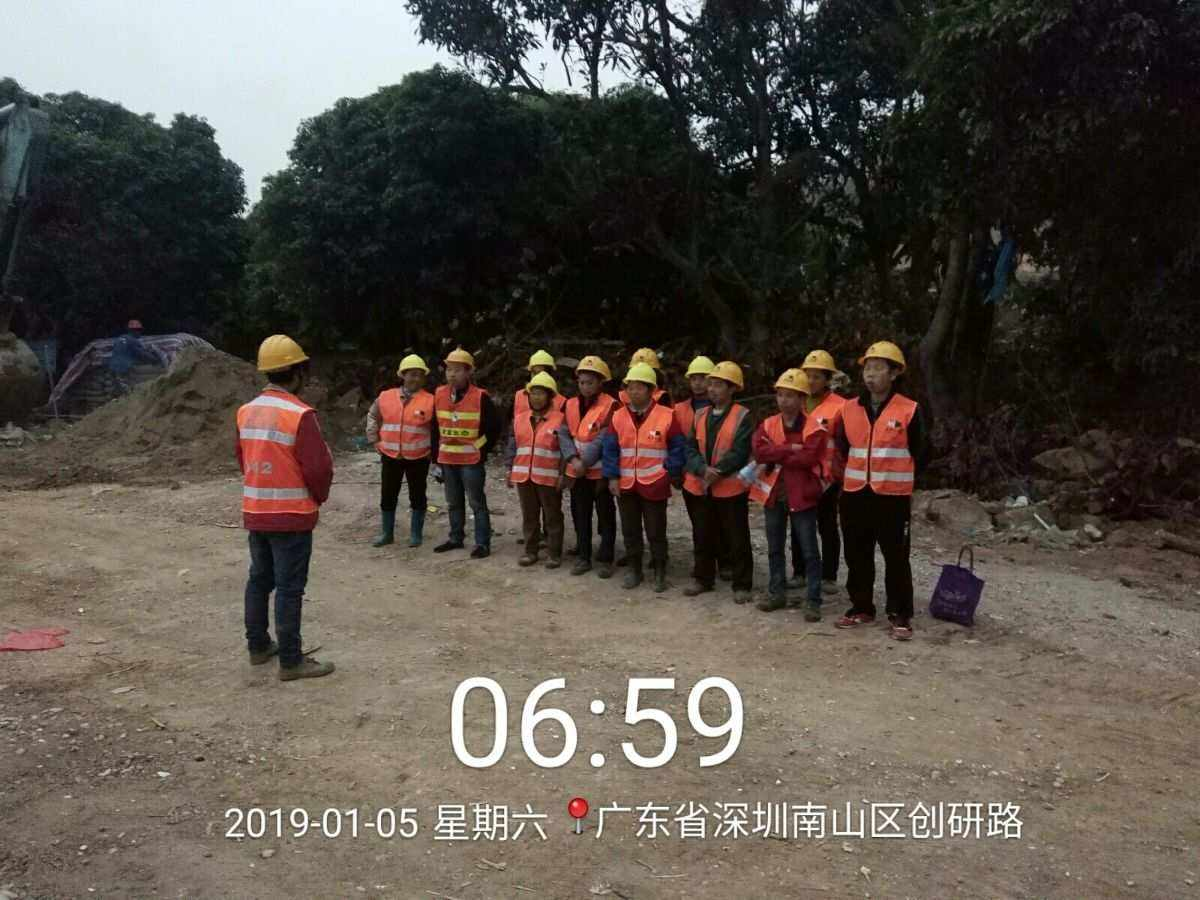person: (227, 331, 337, 689), (832, 339, 921, 641), (750, 363, 832, 629), (601, 359, 686, 593), (680, 363, 756, 605), (432, 345, 498, 563), (364, 351, 434, 551), (556, 354, 616, 583), (797, 346, 851, 593), (505, 372, 566, 574)
reflective_vest: (234, 382, 320, 515), (839, 390, 921, 496), (747, 414, 831, 508), (678, 402, 754, 498), (610, 403, 675, 492), (561, 395, 615, 481), (432, 382, 487, 466), (375, 386, 434, 463), (507, 407, 565, 484), (801, 392, 846, 490)
safety_helmet: (253, 332, 314, 391), (855, 338, 909, 395), (772, 364, 813, 418), (704, 359, 746, 405), (619, 361, 660, 408), (800, 347, 839, 395), (571, 354, 610, 399), (523, 371, 560, 412), (441, 347, 474, 390), (395, 352, 429, 393), (685, 352, 716, 395), (626, 344, 661, 370), (525, 347, 560, 373)
